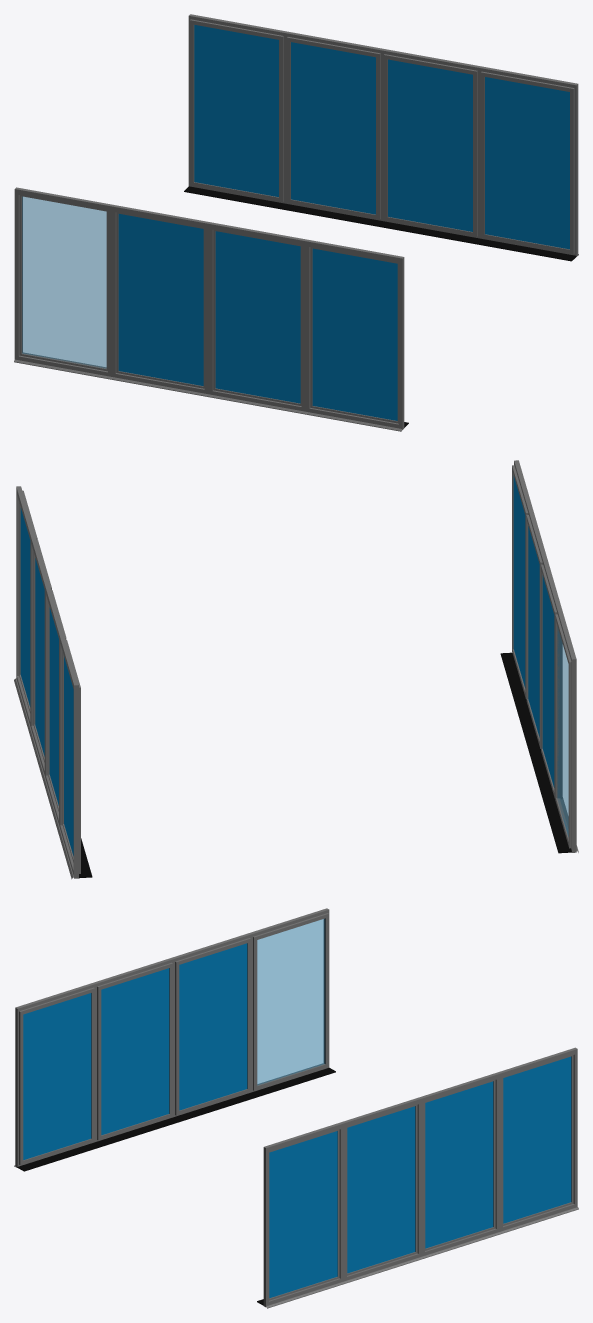
Rendered from rac_basic_sample_project_Level_1_Living_Rm_IfcWindow.dae.
3 renders of one model, top to bottom at view 1: azimuth 30°, elevation 25°; view 2: azimuth 150°, elevation 25°; view 3: azimuth 270°, elevation 25°, orthographic. The views are drawn at different scales.
Parts seen in each view (by area): view 1: 20nhVaBTTAJguMI9o6oBQF, 20nhVaBTTAJguMI9o6oDQ8, 20nhVaBTTAJguMI9o6oBQ9, 20nhVaBTTAJguMI9o6oBQ8, 20nhVaBTTAJguMI9o6oBQE, 20nhVaBTTAJguMI9o6oD4T, 20nhVaBTTAJguMI9o6oD2l, 20nhVaBTTAJguMI9o6oD5Q; view 2: 20nhVaBTTAJguMI9o6oD2l, 20nhVaBTTAJguMI9o6oBQ8, 20nhVaBTTAJguMI9o6oD5Q, 20nhVaBTTAJguMI9o6oD4T, 20nhVaBTTAJguMI9o6oDQ8, 20nhVaBTTAJguMI9o6oBQE, 20nhVaBTTAJguMI9o6oBQ9, 20nhVaBTTAJguMI9o6oBQF; view 3: 20nhVaBTTAJguMI9o6oDQ8, 20nhVaBTTAJguMI9o6oBQF, 20nhVaBTTAJguMI9o6oD5Q, 20nhVaBTTAJguMI9o6oD4T, 20nhVaBTTAJguMI9o6oD2l, 20nhVaBTTAJguMI9o6oBQE, 20nhVaBTTAJguMI9o6oBQ9, 20nhVaBTTAJguMI9o6oBQ8.
Part boxes in pixels (x1,y1,x2,y2): 20nhVaBTTAJguMI9o6oBQF: (475, 66, 578, 261); 20nhVaBTTAJguMI9o6oDQ8: (305, 239, 408, 431); 20nhVaBTTAJguMI9o6oBQ9: (281, 31, 383, 226); 20nhVaBTTAJguMI9o6oBQ8: (184, 14, 286, 209); 20nhVaBTTAJguMI9o6oBQE: (378, 49, 480, 243); 20nhVaBTTAJguMI9o6oD4T: (208, 222, 306, 414); 20nhVaBTTAJguMI9o6oD2l: (14, 187, 112, 379); 20nhVaBTTAJguMI9o6oD5Q: (111, 205, 209, 396); 20nhVaBTTAJguMI9o6oD2l: (544, 609, 578, 853); 20nhVaBTTAJguMI9o6oBQ8: (57, 635, 92, 879); 20nhVaBTTAJguMI9o6oD5Q: (529, 560, 564, 802); 20nhVaBTTAJguMI9o6oD4T: (515, 510, 547, 753); 20nhVaBTTAJguMI9o6oDQ8: (500, 460, 532, 702); 20nhVaBTTAJguMI9o6oBQE: (28, 536, 51, 779); 20nhVaBTTAJguMI9o6oBQ9: (43, 585, 66, 828); 20nhVaBTTAJguMI9o6oBQF: (14, 486, 37, 729); 20nhVaBTTAJguMI9o6oDQ8: (14, 983, 102, 1171); 20nhVaBTTAJguMI9o6oBQF: (257, 1122, 344, 1308); 20nhVaBTTAJguMI9o6oD5Q: (171, 933, 257, 1121); 20nhVaBTTAJguMI9o6oD4T: (93, 958, 180, 1146); 20nhVaBTTAJguMI9o6oD2l: (249, 908, 335, 1096); 20nhVaBTTAJguMI9o6oBQE: (342, 1097, 422, 1283); 20nhVaBTTAJguMI9o6oBQ9: (420, 1072, 500, 1258); 20nhVaBTTAJguMI9o6oBQ8: (498, 1047, 578, 1233).
Size of the model in its own units: 8.77 by 8.68 by 2.71.
